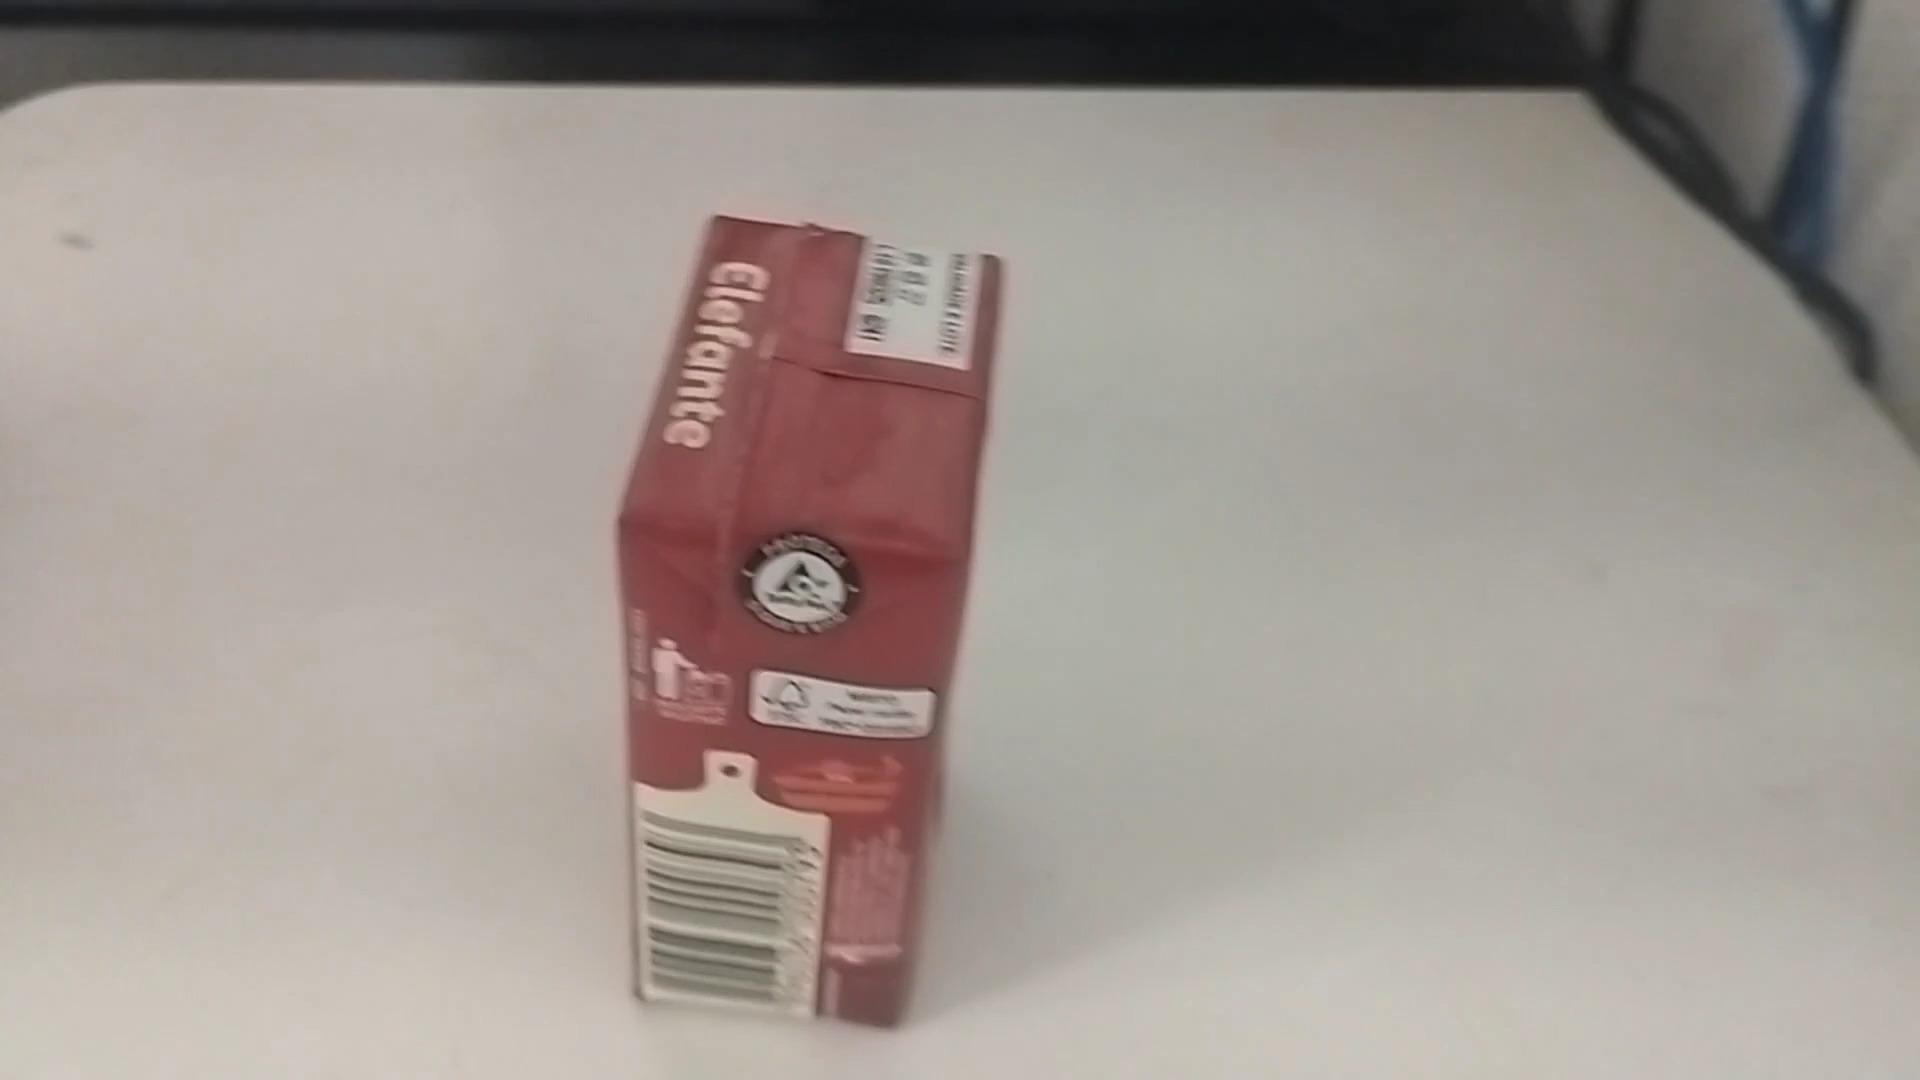tomate: (600, 199, 1027, 1038)
